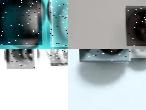ironball: (0, 0, 42, 45), (49, 0, 68, 47), (125, 6, 145, 46), (77, 49, 129, 62), (6, 49, 34, 69), (46, 48, 68, 62), (128, 49, 145, 58)
